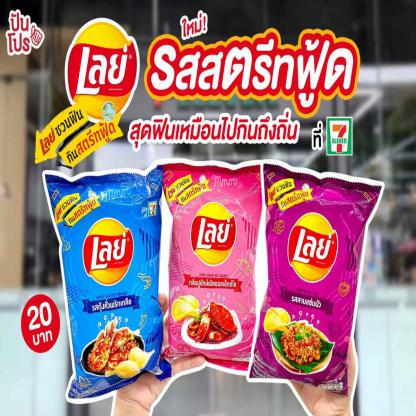potatochip: (244, 155, 386, 403), (37, 159, 174, 405), (146, 155, 272, 381)
